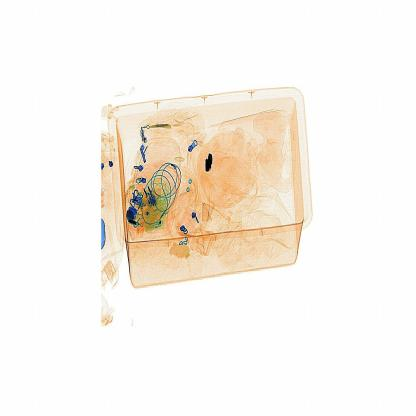knife: (196, 147, 222, 182)
